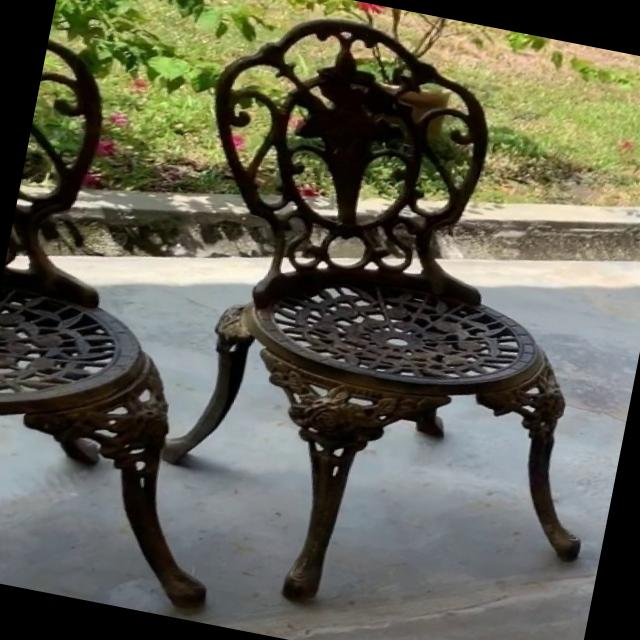Chair: (117, 0, 640, 640), (0, 38, 306, 612)
